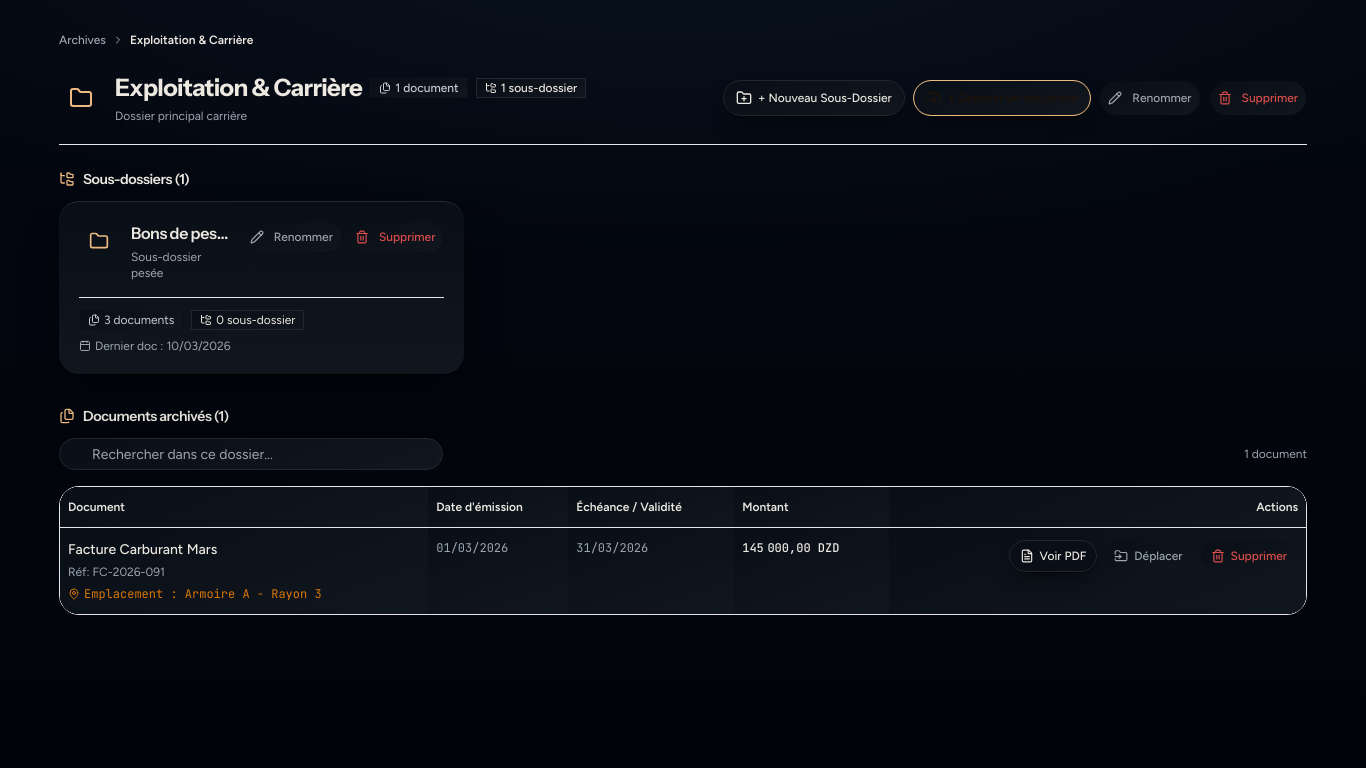
Scenario: Archives Module UI Pages & Components › ClusterWorkspacePage (/archives/[id]) › opens UploadArchiveDialog when "+ Déposer un document" is clicked
This screenshot has width=1366, height=768.
Check: the heading "Exploitation & Carrière" is shown, box [115, 72, 362, 104]
What coordinates should you click on to do the following:
click the button "+ Déposer un document"
I would click on:
 (1002, 98)
Its box is [913, 80, 1091, 116].
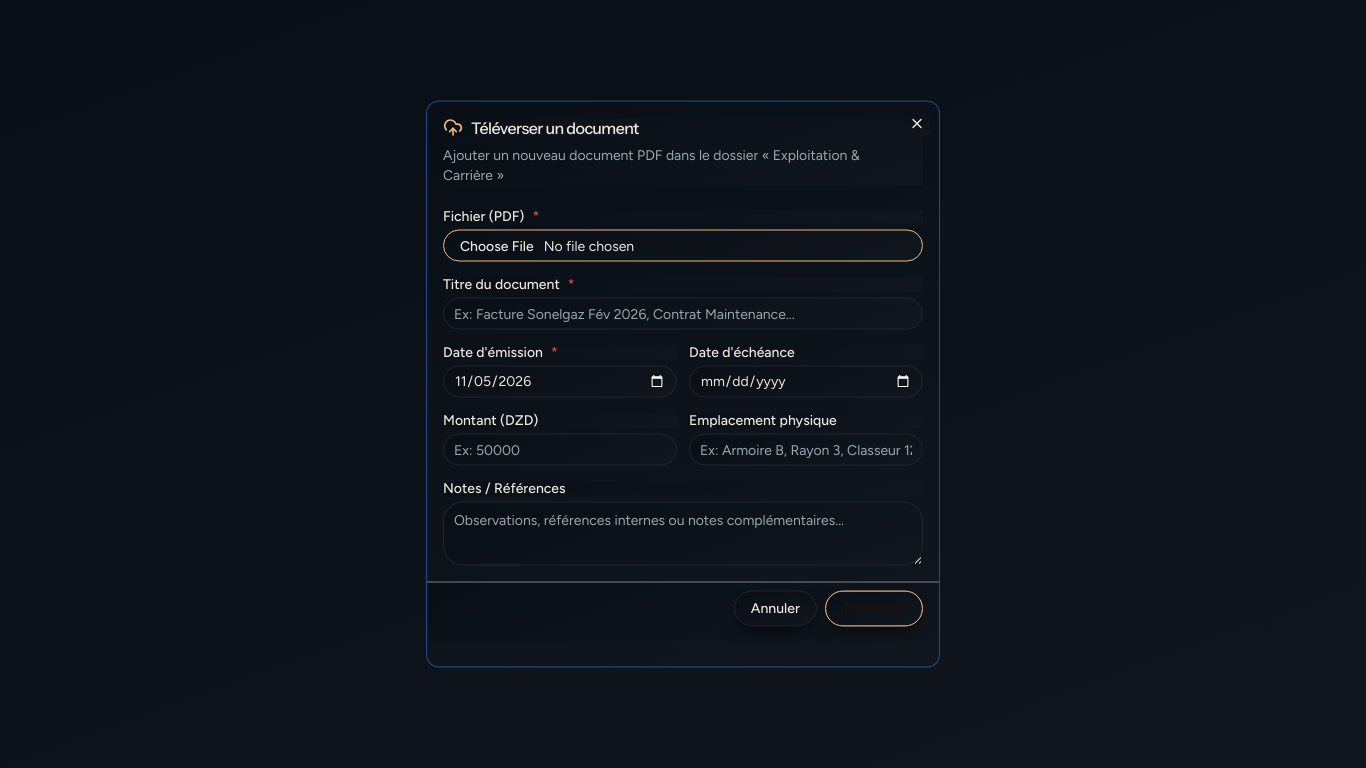
Check: the heading "Téléverser un document" is shown, box [471, 120, 639, 136]
